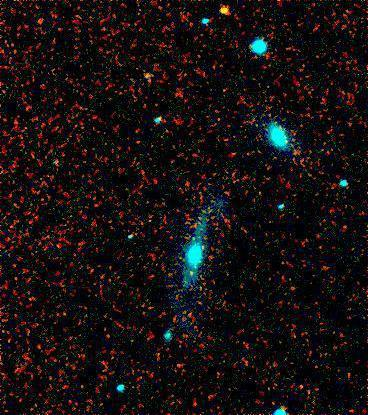star: (212, 0, 242, 26)
